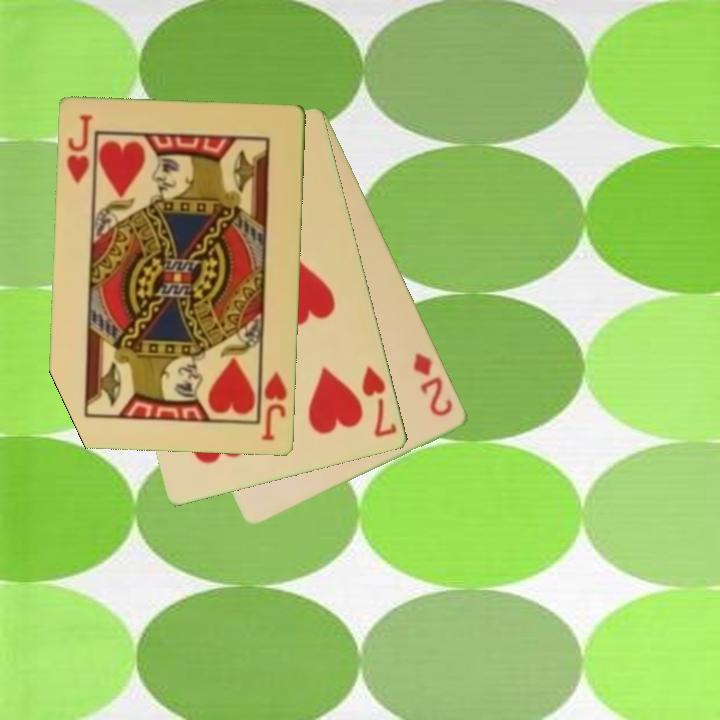2d: (410, 350, 457, 420)
7h: (358, 363, 400, 441)
Jh: (258, 368, 290, 444), (63, 112, 95, 188)
